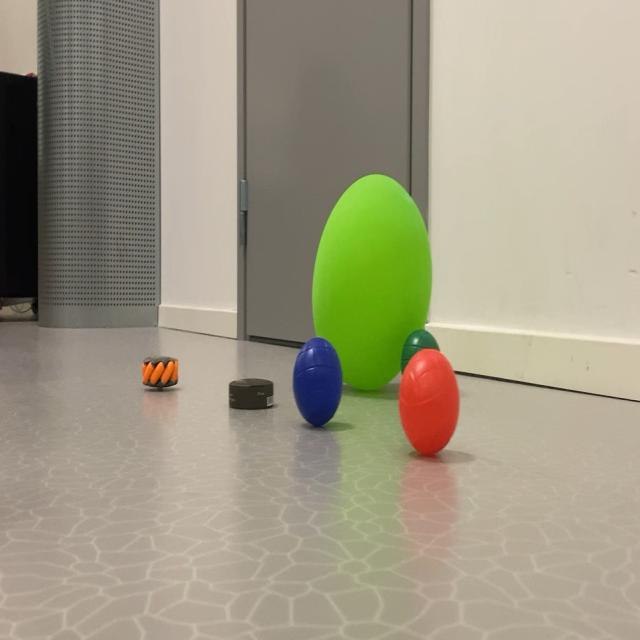7: (394, 351, 461, 461)
green ball: (290, 329, 355, 439)
red ball: (400, 316, 440, 372)
